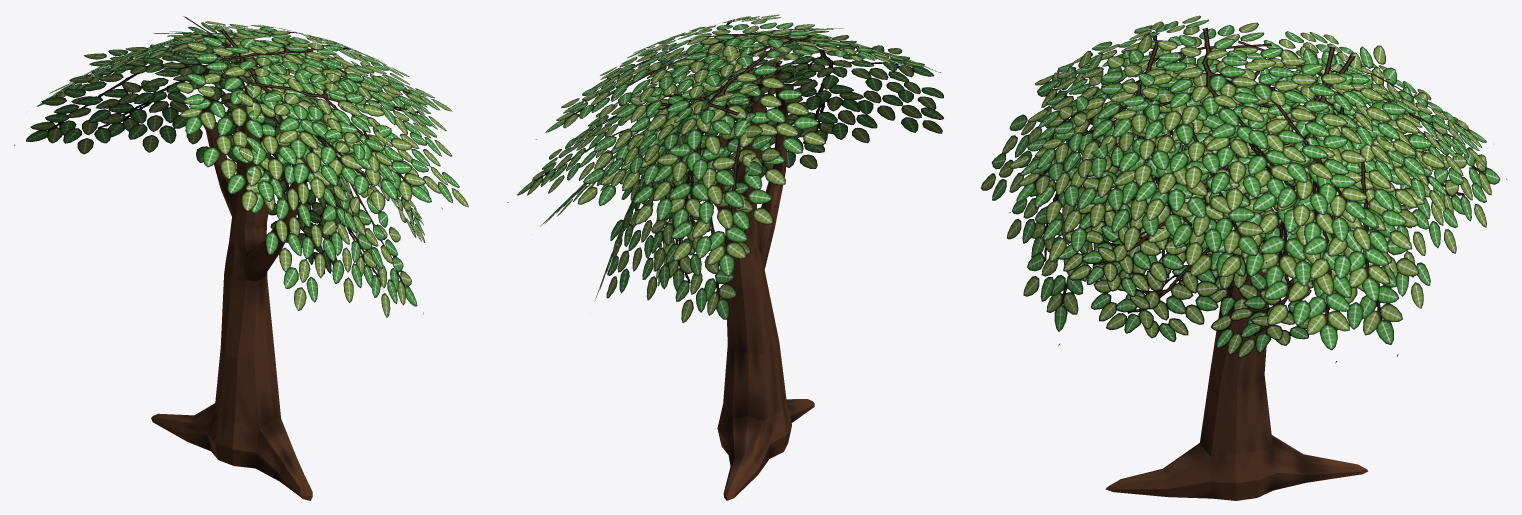
File: arbol_plat.fbx
3 views of the same model, side by side, from view 1: azimuth 30°, elevation 25°; view 2: azimuth 150°, elevation 25°; view 3: azimuth 270°, elevation 25° (orthographic). The views are drawn at different scales.
Visible parts, largest first — view 1: tronco_plat_Group2, pPlane10, pPlane14, pPlane16, pPlane8, pPlane6, pPlane15, pPlane11, pPlane5, pPlane13; view 2: pPlane11, tronco_plat_Group2, pPlane14, pPlane16, pPlane6, pPlane9, pPlane10, pPlane12, pPlane13, pPlane8, pPlane7; view 3: pPlane6, pPlane8, tronco_plat_Group2, pPlane9, pPlane10, pPlane7, pPlane11, pPlane14, pPlane5, pPlane16, pPlane12, pPlane13 (+1 smaller).
Boxes of the visible parts, bbox=[...] form: tronco_plat_Group2: bbox=[151, 86, 312, 500]; pPlane10: bbox=[176, 29, 442, 211]; pPlane14: bbox=[236, 76, 423, 317]; pPlane16: bbox=[14, 44, 259, 162]; pPlane8: bbox=[249, 38, 468, 207]; pPlane6: bbox=[205, 21, 452, 111]; pPlane15: bbox=[219, 38, 352, 274]; pPlane11: bbox=[37, 30, 271, 106]; pPlane5: bbox=[230, 54, 425, 242]; pPlane13: bbox=[163, 16, 348, 202]; pPlane11: bbox=[577, 45, 825, 287]; tronco_plat_Group2: bbox=[714, 73, 814, 500]; pPlane14: bbox=[704, 35, 943, 177]; pPlane16: bbox=[606, 78, 780, 328]; pPlane6: bbox=[535, 14, 814, 139]; pPlane9: bbox=[507, 53, 759, 202]; pPlane10: bbox=[686, 31, 940, 72]; pPlane12: bbox=[688, 62, 812, 221]; pPlane13: bbox=[594, 61, 738, 301]; pPlane8: bbox=[568, 28, 843, 108]; pPlane7: bbox=[539, 81, 753, 226]; pPlane6: bbox=[1112, 27, 1376, 227]; pPlane8: bbox=[1034, 40, 1270, 266]; tronco_plat_Group2: bbox=[1105, 178, 1368, 500]; pPlane9: bbox=[1185, 46, 1445, 314]; pPlane10: bbox=[1009, 15, 1271, 212]; pPlane7: bbox=[1148, 70, 1424, 363]; pPlane11: bbox=[1238, 31, 1486, 211]; pPlane14: bbox=[981, 34, 1170, 345]; pPlane5: bbox=[1058, 59, 1277, 297]; pPlane16: bbox=[1275, 45, 1507, 308]; pPlane12: bbox=[1086, 87, 1275, 341]; pPlane13: bbox=[1189, 47, 1426, 356].
Bounding box in the file's own units: 10.63 × 13.43 × 14.73.
Materials: 2 (2 with a texture image).
